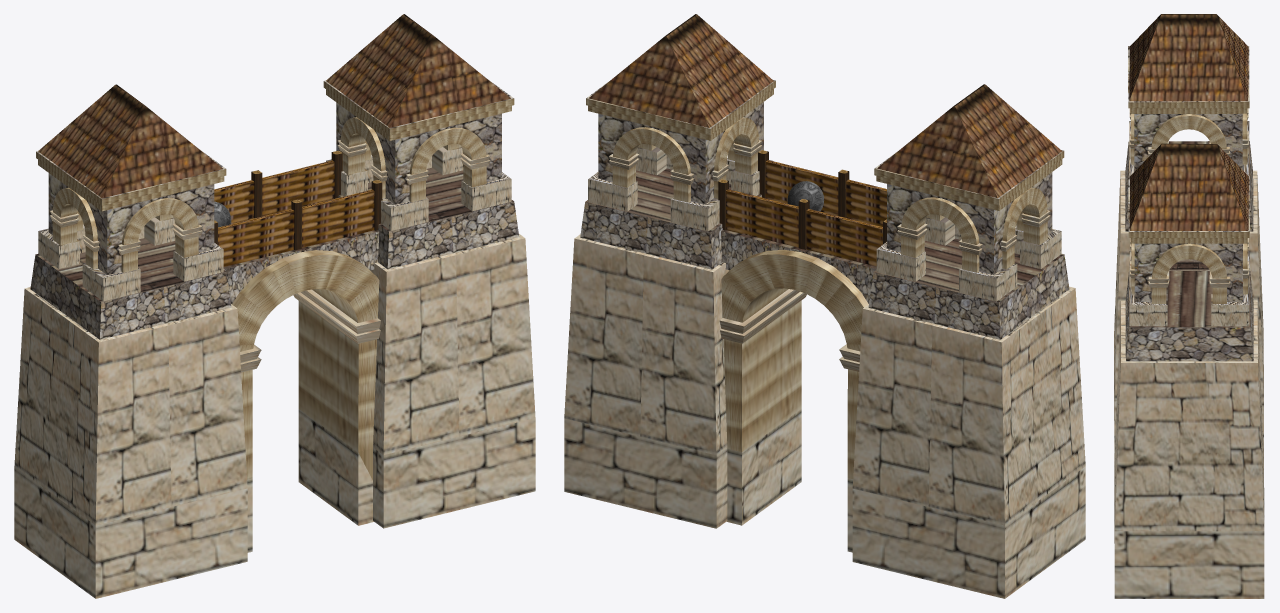
Rendered from wall_gate.dae.
The picture shows the model from 3 angles, left to right: view 1: azimuth 30°, elevation 25°; view 2: azimuth 150°, elevation 25°; view 3: azimuth 270°, elevation 25°; orthographic projection. The views are drawn at different scales.
Parts seen in each view (by area): view 1: wall_gate; view 2: wall_gate; view 3: wall_gate.
Part boxes in pixels (bbox=[...]): wall_gate: bbox=[14, 14, 535, 598]; wall_gate: bbox=[564, 14, 1085, 598]; wall_gate: bbox=[1114, 14, 1264, 598].
Bounding box in the file's own units: 32.35 × 10.46 × 32.06.
